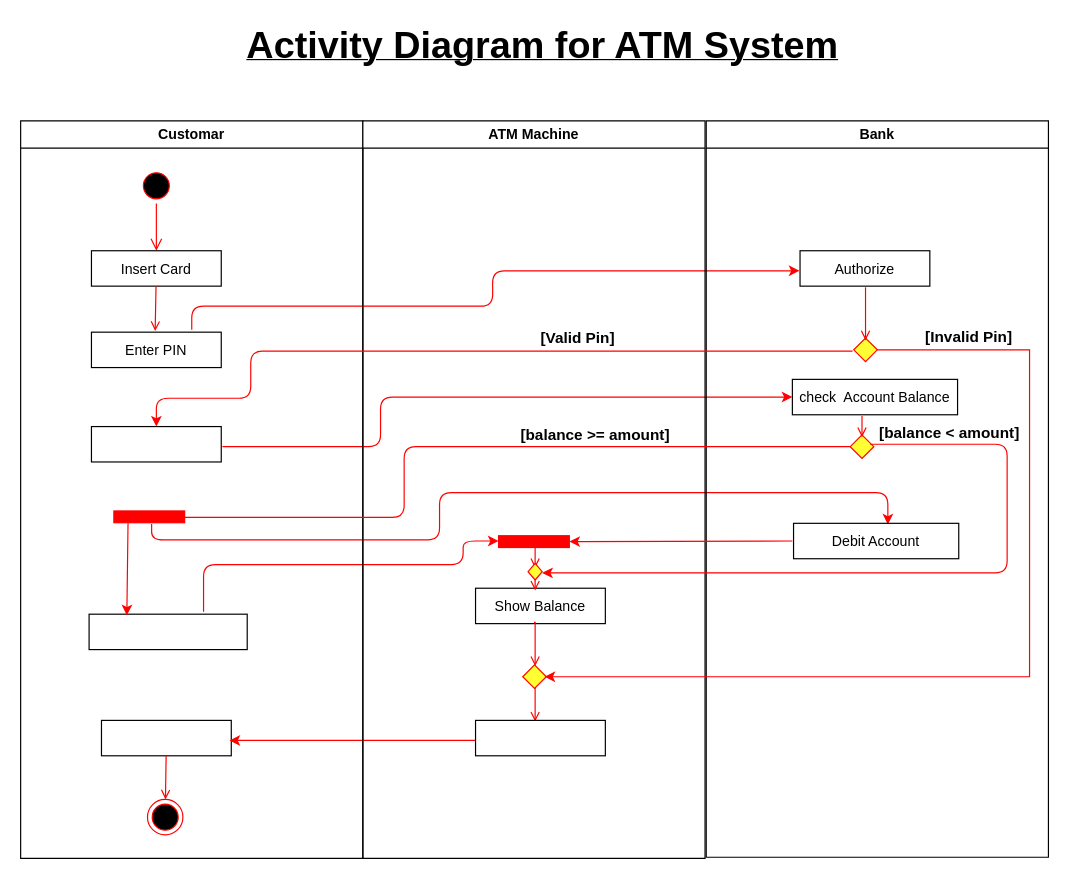
Image size: 1069x879. Some labels were removed from this diagram. Each missing label, with the centre of its shape:
Eject Card: (x=539, y=737)
Enter Amount: (x=155, y=443)
Take Card: (x=165, y=737)
Take Money From Slot: (x=167, y=631)
